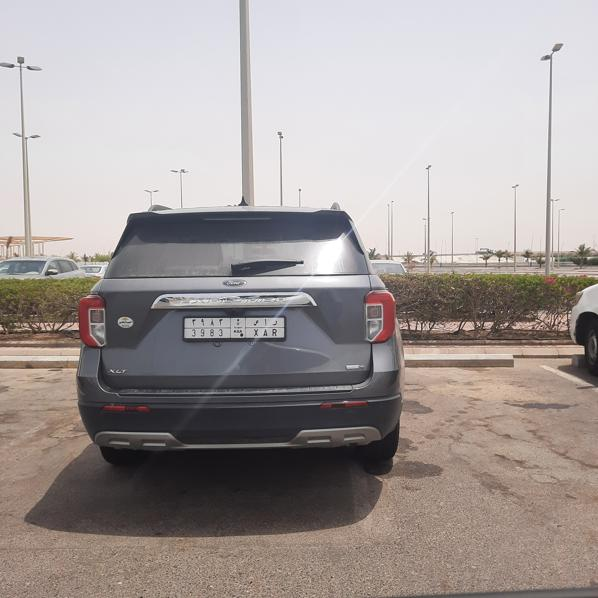numberplate: (184, 316, 285, 341)
